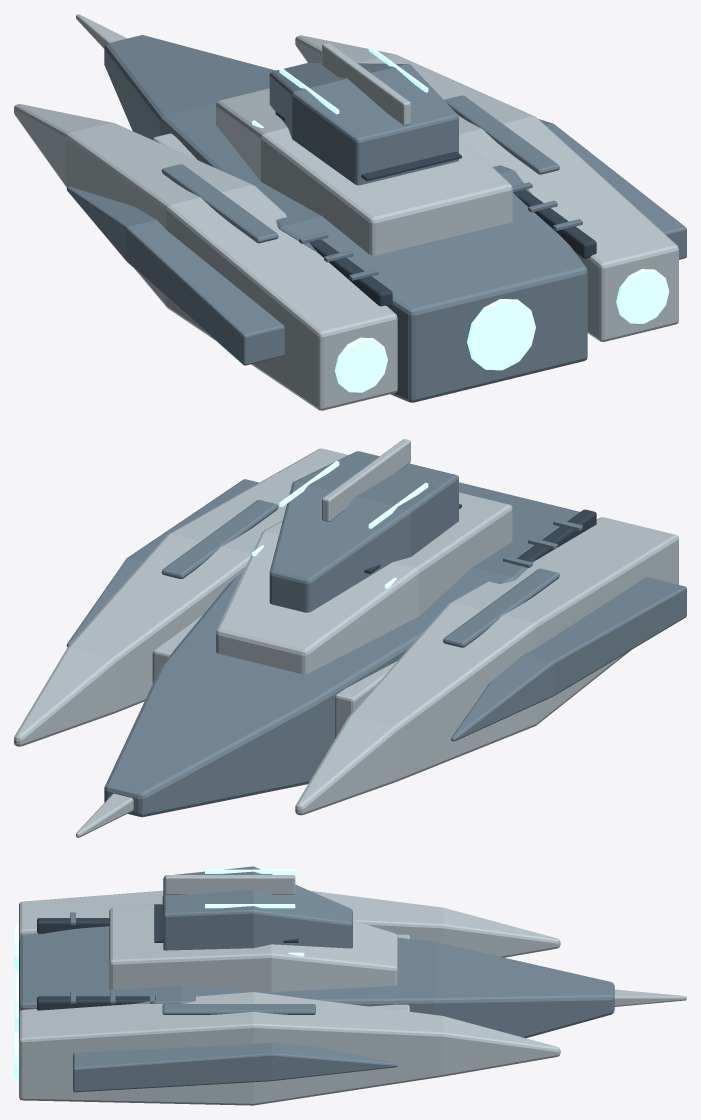
The model's file is CommandWreck.fbx.
3 views of the same model, one above another, from view 1: azimuth 30°, elevation 25°; view 2: azimuth 150°, elevation 25°; view 3: azimuth 270°, elevation 25° (orthographic). The views are drawn at different scales.
Parts seen in each view (by area): view 1: Piece_01.002, Piece_04.002, Piece_02.002, Piece_03.002, Piece_05.002, Piece_06.002; view 2: Piece_02.002, Piece_03.002, Piece_01.002, Piece_06.002, Piece_05.002, Piece_04.002; view 3: Piece_05.002, Piece_04.002, Piece_06.002, Piece_03.002, Piece_01.002, Piece_02.002.
Part boxes in pixels (x1,y1,x2,y2): Piece_01.002: [163, 83, 502, 410]; Piece_04.002: [380, 82, 686, 381]; Piece_02.002: [74, 43, 379, 327]; Piece_03.002: [14, 14, 269, 199]; Piece_05.002: [290, 43, 595, 159]; Piece_06.002: [79, 14, 441, 96]; Piece_02.002: [272, 459, 596, 762]; Piece_03.002: [77, 628, 468, 837]; Piece_01.002: [380, 439, 686, 703]; Piece_06.002: [14, 610, 271, 837]; Piece_05.002: [75, 458, 379, 643]; Piece_04.002: [164, 439, 497, 533]; Piece_05.002: [208, 876, 379, 1105]; Piece_04.002: [14, 876, 208, 1104]; Piece_06.002: [380, 946, 686, 1086]; Piece_03.002: [380, 899, 682, 995]; Piece_01.002: [14, 869, 208, 976]; Piece_02.002: [208, 866, 379, 946].
Bounding box in the file's own units: 22.39 × 10.85 × 37.27.
